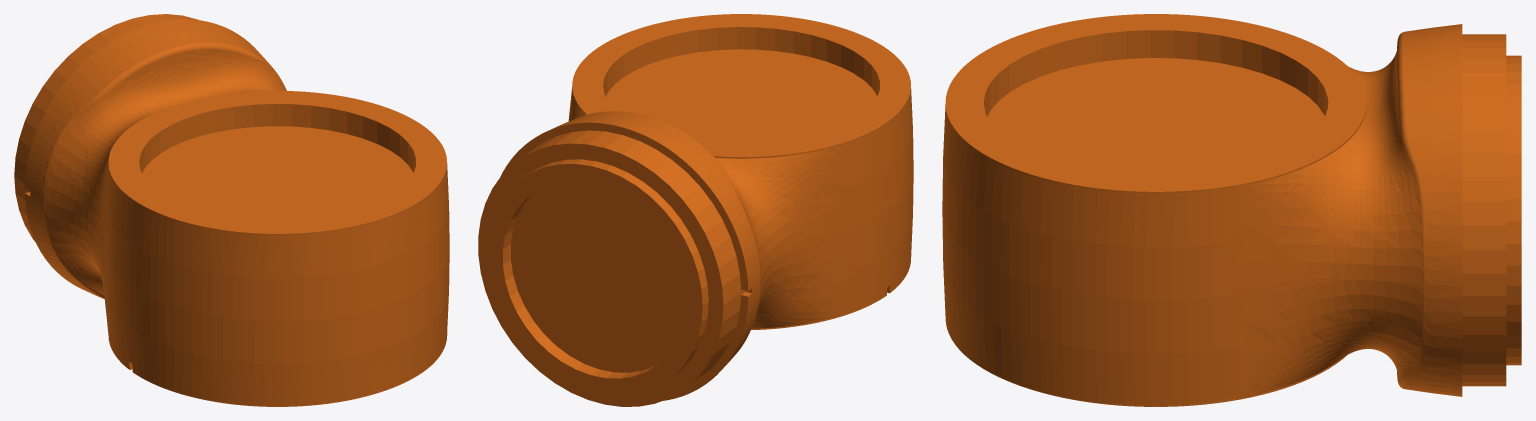
3 renders of one model, left to right at view 1: azimuth 30°, elevation 25°; view 2: azimuth 150°, elevation 25°; view 3: azimuth 270°, elevation 25°, orthographic. The views are drawn at different scales.
Visible parts, largest first — view 1: Link1; view 2: Link1; view 3: Link1.
Part boxes in pixels (x1,y1,x2,y2): Link1: (14,14,449,406); Link1: (478,14,913,406); Link1: (942,14,1521,406).
Size of the model in its own units: 0.1116 by 0.0974 by 0.1513.
